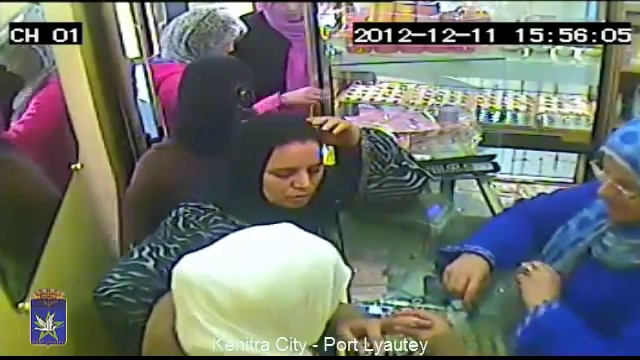face: (262, 145, 330, 210), (601, 152, 637, 219)
